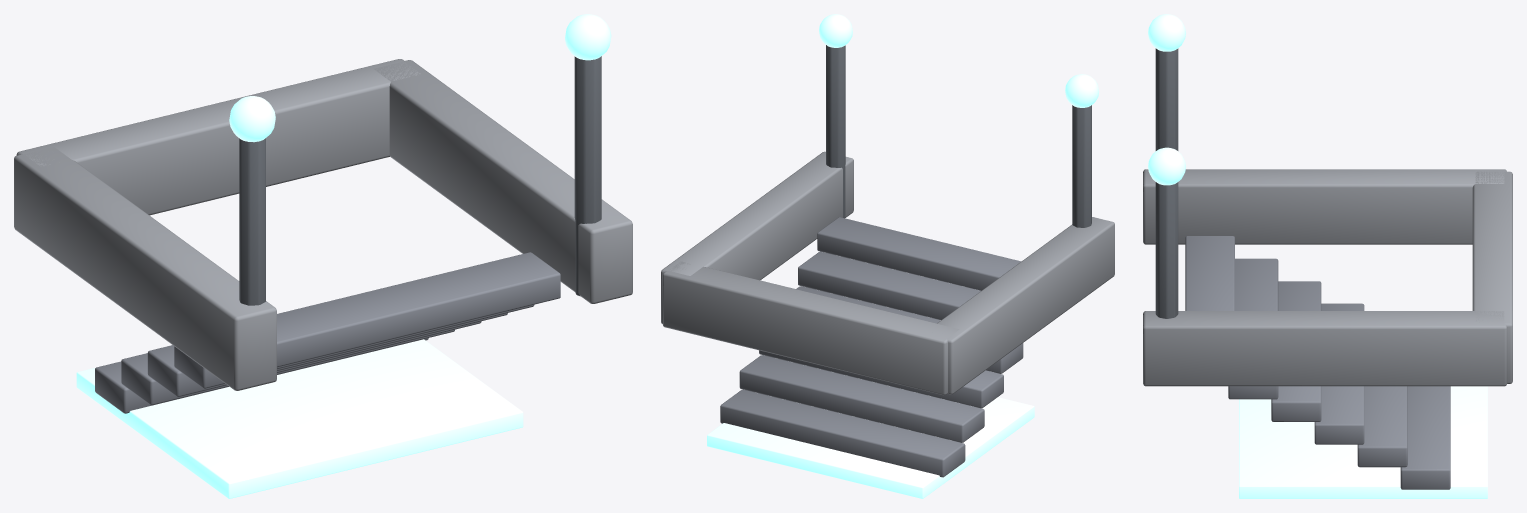
The model's file is stairs_down.glb.
3 views of the same model, side by side, from view 1: azimuth 30°, elevation 25°; view 2: azimuth 150°, elevation 25°; view 3: azimuth 270°, elevation 25° (orthographic). The views are drawn at different scales.
Parts seen in each view (by area): view 1: DescentVoid, RimWest, RimNorth, RimEast, Step_0, Post_1.65, Post_-1.65, Step_3, Step_4, Beacon_1.65, Beacon_-1.65, Step_5 (+1 smaller); view 2: RimNorth, RimWest, RimEast, Step_4, Step_5, DescentVoid, Step_0, Step_1, Post_1.65, Post_-1.65, Step_3, Step_2 (+2 smaller); view 3: RimEast, RimWest, DescentVoid, RimNorth, Step_5, Step_4, Step_0, Post_1.65, Step_3, Step_2, Step_1, Post_-1.65 (+2 smaller).
Part boxes in pixels (x1,y1,x2,y2): DescentVoid: (76,339,523,498); RimWest: (14,147,276,390); RimNorth: (16,59,420,215); RimEast: (374,60,632,303); Step_0: (277,252,560,367); Post_1.65: (574,56,601,296); Post_-1.65: (239,138,265,305); Step_3: (147,321,481,396); Step_4: (121,329,454,405); Beacon_1.65: (565,14,611,60); Beacon_-1.65: (229,96,275,142); Step_5: (95,338,428,413); RimNorth: (663,261,959,395); RimWest: (937,217,1114,394); RimEast: (661,151,853,324); Step_4: (739,355,984,442); Step_5: (720,389,965,477); DescentVoid: (707,397,1034,498); Step_0: (817,217,1021,290); Step_1: (798,251,980,319); Post_1.65: (826,45,845,218); Post_-1.65: (1072,105,1091,227); Step_3: (759,350,1003,408); Step_2: (796,286,1023,373); RimEast: (1143,311,1507,386); RimWest: (1143,169,1506,244); DescentVoid: (1239,386,1487,498); RimNorth: (1472,171,1512,383); Step_5: (1400,386,1450,489); Step_4: (1357,386,1407,467); Step_0: (1185,236,1234,310); Post_1.65: (1155,182,1178,318); Step_3: (1314,303,1364,444); Step_2: (1271,281,1321,421); Step_1: (1228,258,1278,399); Post_-1.65: (1155,48,1178,150).
Bounding box in the file's own units: 3.92 × 4.13 × 3.86.
